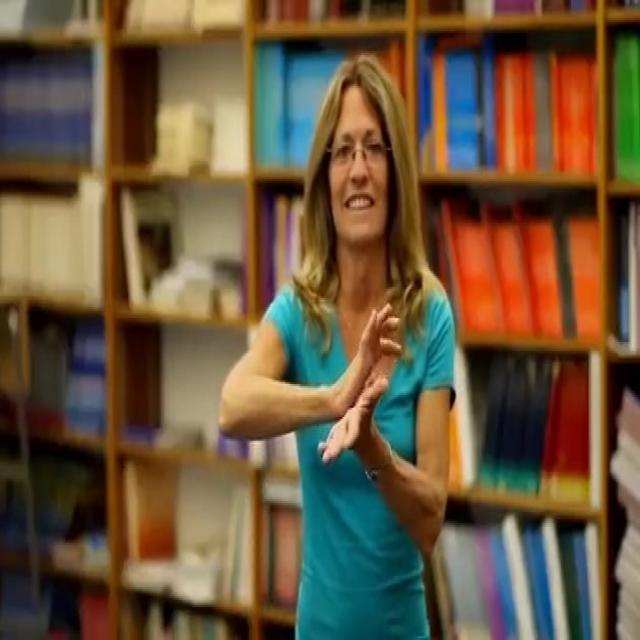cheese: (313, 292, 413, 468)
